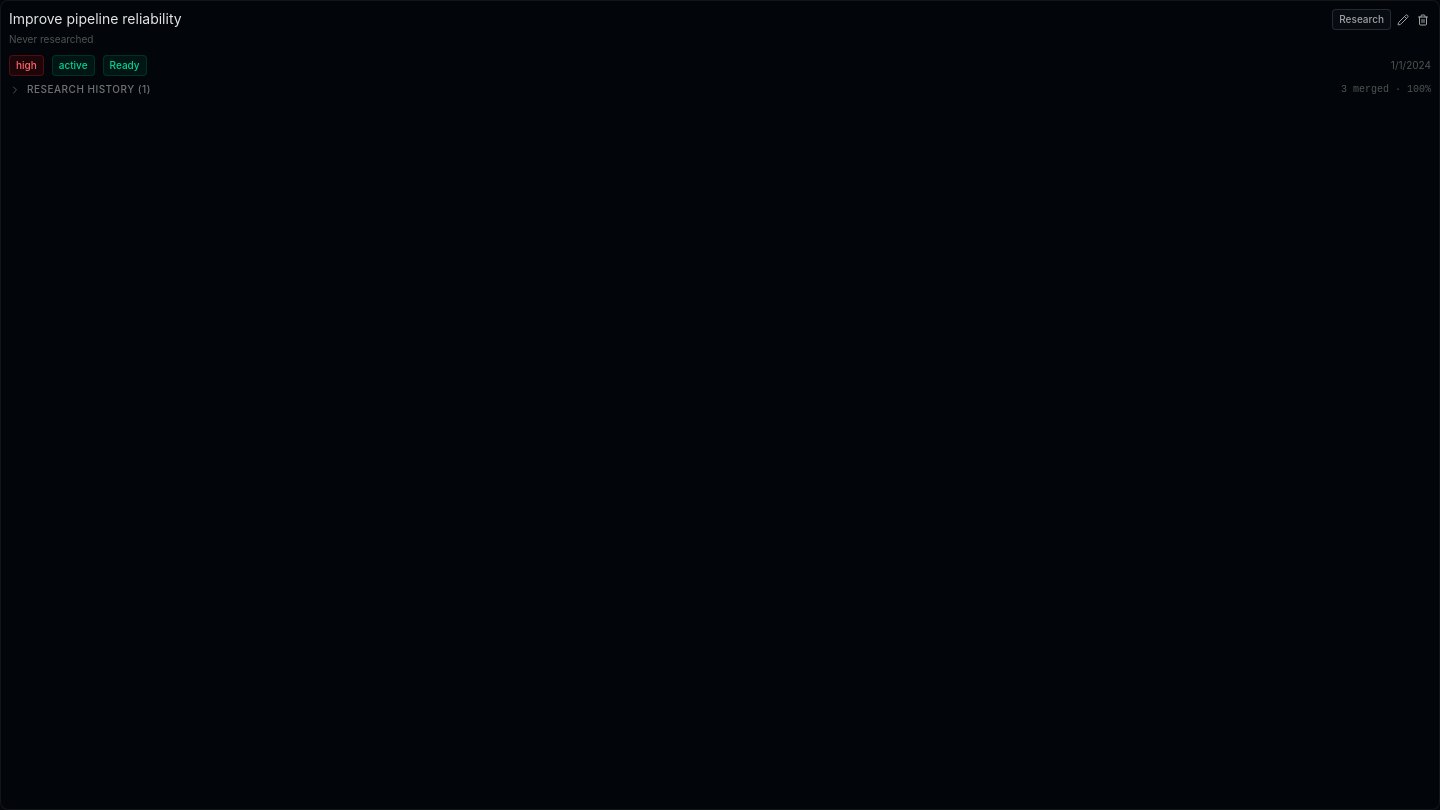
Test: DirectionCard per-cycle delta badge › shows "N this cycle" badge with no delta when only one cycle available
Click the button "Research History (1) 3 merged · 100%" at {"x": 85, "y": 89}, box 9,82 -> 1431,97
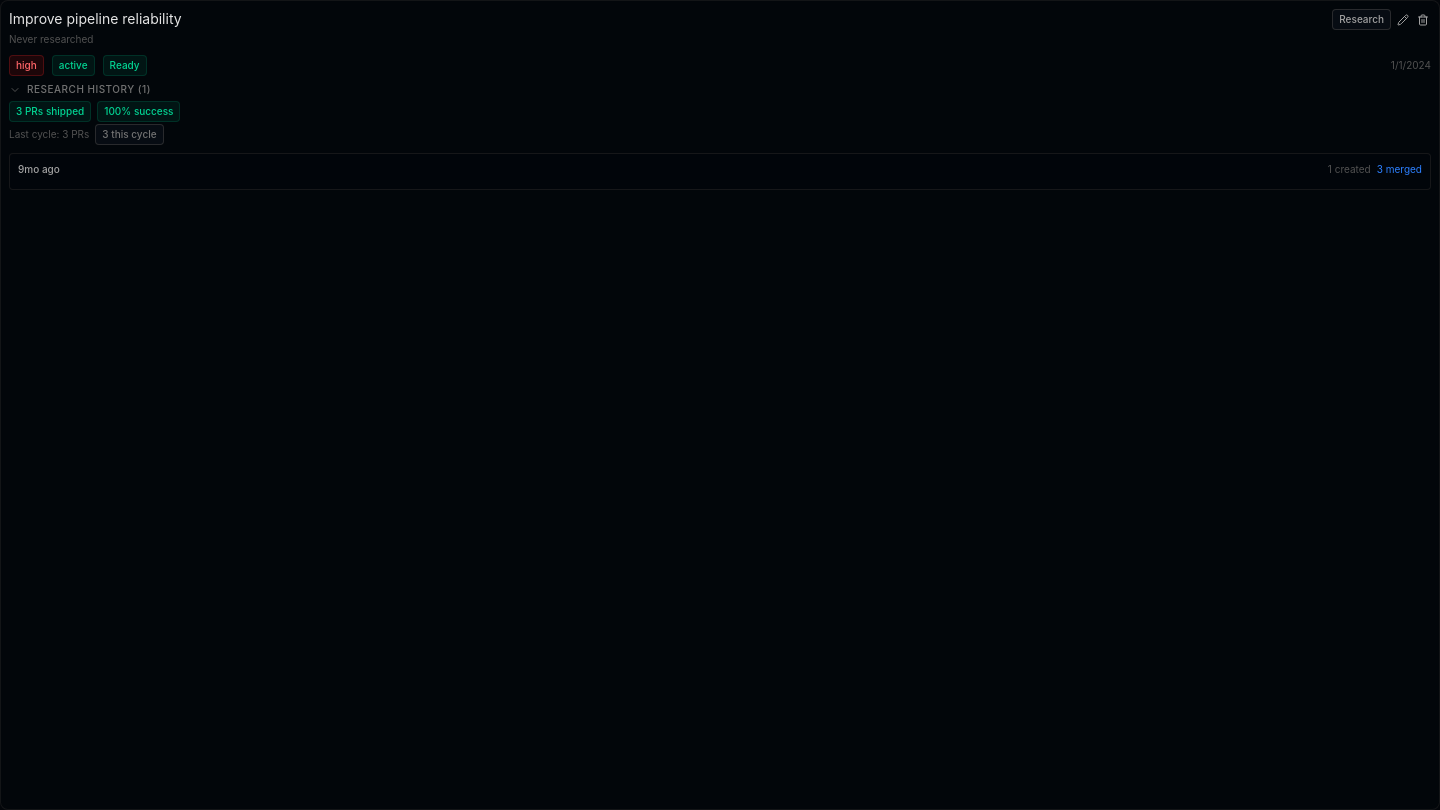
Result: the text "3 this cycle" is shown at 95,124 -> 164,145
